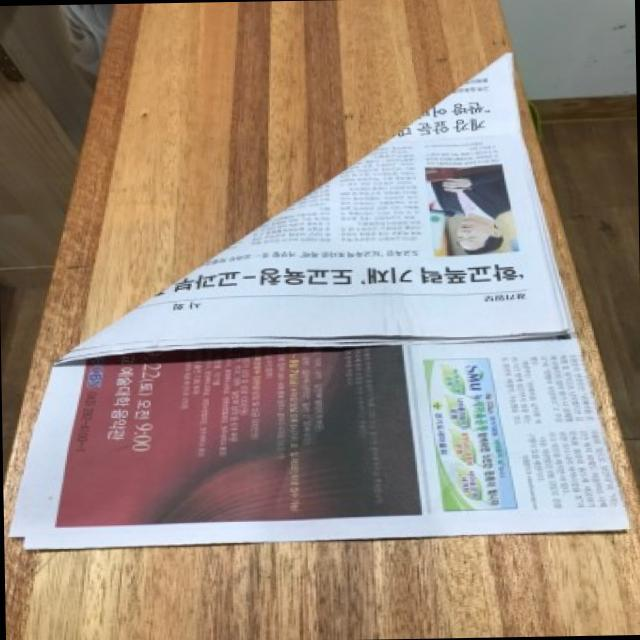reuseable_paper: (75, 48, 570, 538)
